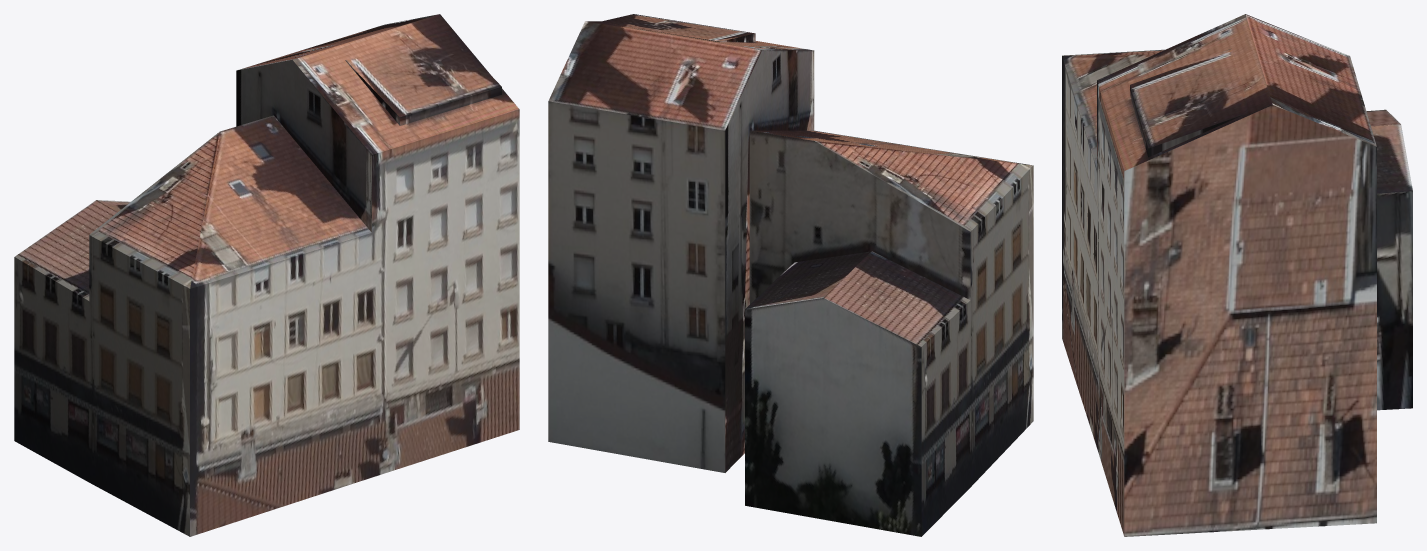
The picture shows the model from 3 angles, left to right: view 1: azimuth 30°, elevation 25°; view 2: azimuth 150°, elevation 25°; view 3: azimuth 270°, elevation 25°; orthographic projection. The views are drawn at different scales.
Visible parts, largest first — view 1: Z_UP; view 2: Z_UP; view 3: Z_UP.
Boxes of the visible parts, x1,y1,x2,y2 form: Z_UP: [14, 14, 519, 536]; Z_UP: [548, 14, 1033, 536]; Z_UP: [1062, 14, 1412, 536].
Size of the model in its own units: 24.79 by 22.68 by 16.93.
2 materials, 1 textured.
